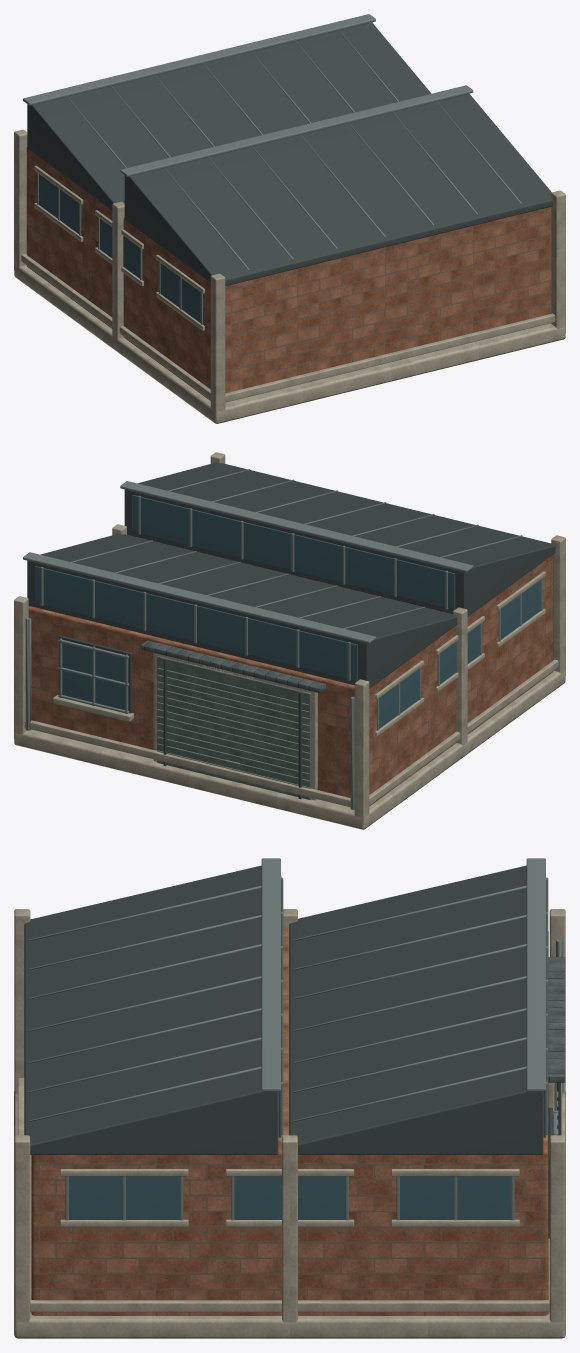
File: warehouse-sawtooth.glb
3 views of the same model, one above another, from view 1: azimuth 30°, elevation 25°; view 2: azimuth 150°, elevation 25°; view 3: azimuth 270°, elevation 25° (orthographic). The views are drawn at different scales.
Visible parts, largest first — view 1: WarehouseSawtooth_Geometry; view 2: WarehouseSawtooth_Geometry; view 3: WarehouseSawtooth_Geometry.
Boxes of the visible parts, x1,y1,x2,y2 form: WarehouseSawtooth_Geometry: [14, 14, 565, 423]; WarehouseSawtooth_Geometry: [14, 452, 565, 829]; WarehouseSawtooth_Geometry: [14, 858, 565, 1338].
Bounding box in the file's own units: 8 × 4 × 8.
Materials: 8 (4 with a texture image).
